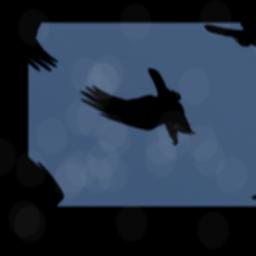Crow: (72, 52, 222, 160)
